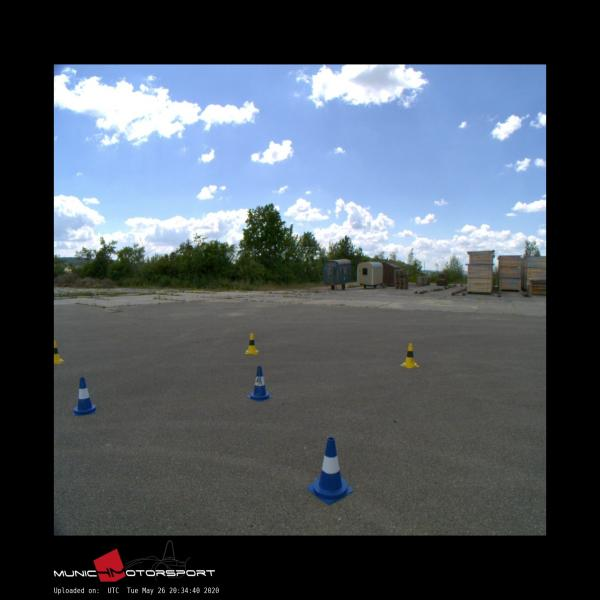blue_cone: (308, 437, 352, 503), (247, 366, 273, 402), (74, 377, 96, 415)
yellow_cone: (400, 343, 418, 367), (245, 333, 259, 354), (54, 340, 63, 364)
